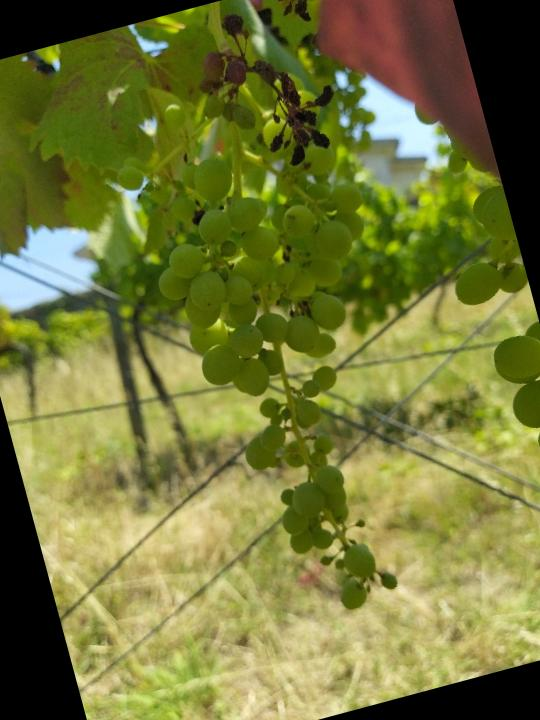grape: (97, 60, 467, 642), (176, 0, 379, 185)
